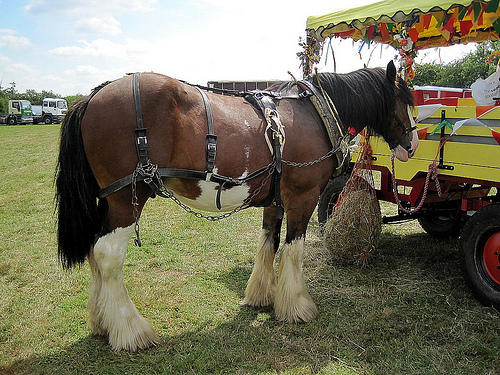horse: (53, 57, 421, 351)
